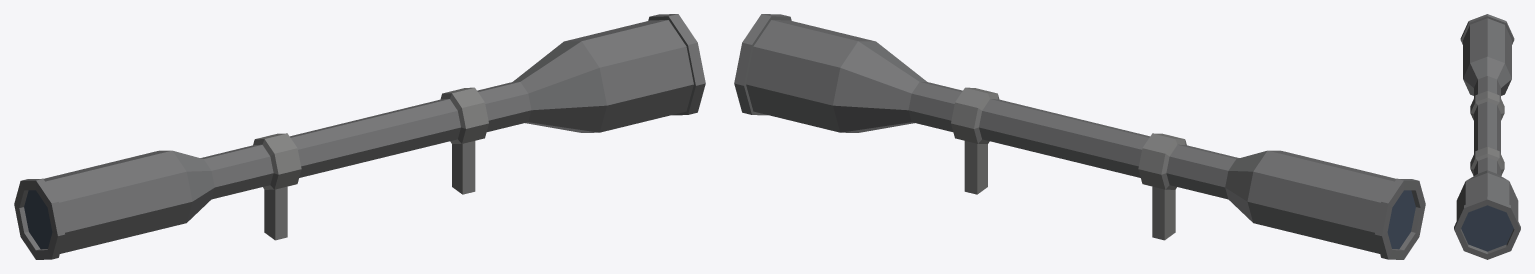
File: acc-scope-1.glb
The picture shows the model from 3 angles, left to right: view 1: azimuth 30°, elevation 25°; view 2: azimuth 150°, elevation 25°; view 3: azimuth 270°, elevation 25°; orthographic projection. The views are drawn at different scales.
Parts seen in each view (by area): view 1: Scope_1; view 2: Scope_1; view 3: Scope_1.
Boxes of the visible parts, x1,y1,x2,y2 form: Scope_1: [14, 14, 705, 259]; Scope_1: [734, 14, 1425, 259]; Scope_1: [1454, 14, 1520, 259].
Bounding box in the file's own units: 2.1 × 0.3843 × 0.3098.
